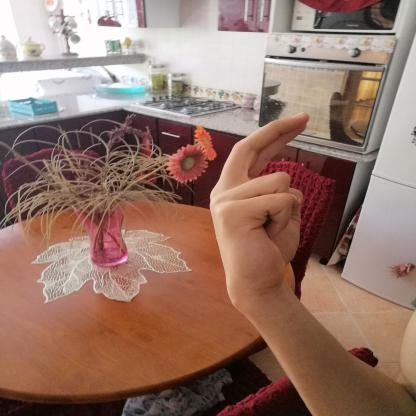ZAY: (202, 104, 324, 308)
